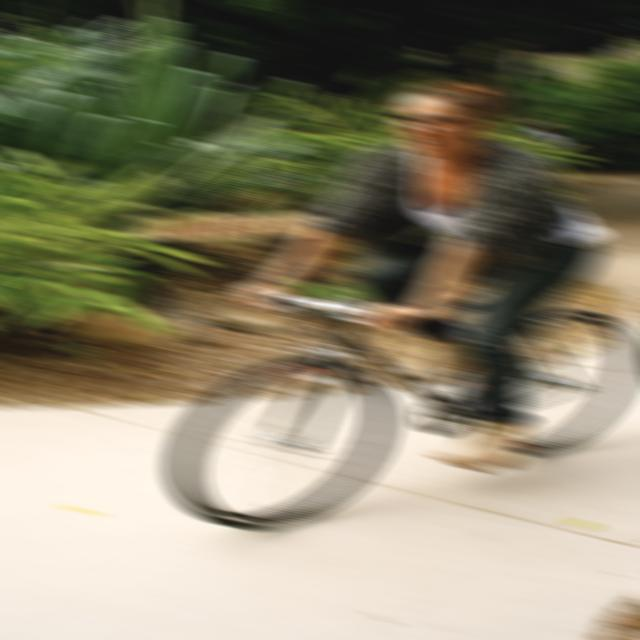Without Helmet: (375, 81, 499, 156)
